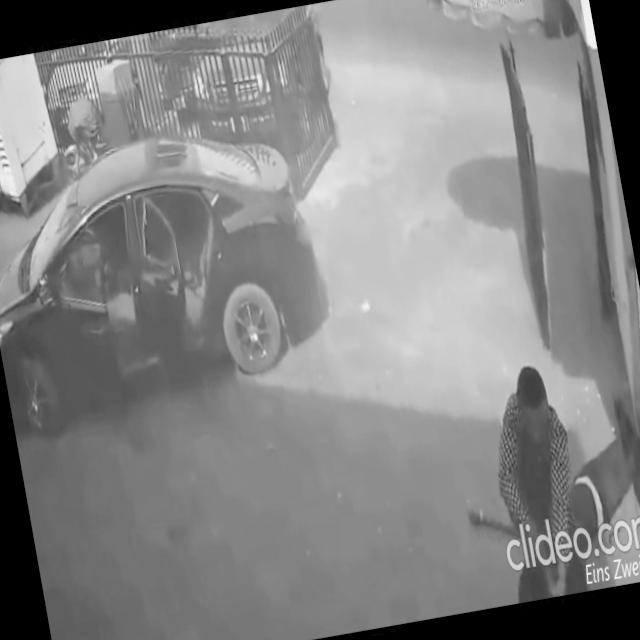gun: (536, 528, 568, 600)
person: (449, 389, 640, 611), (472, 357, 594, 602)
person with a gun: (470, 357, 596, 605)
